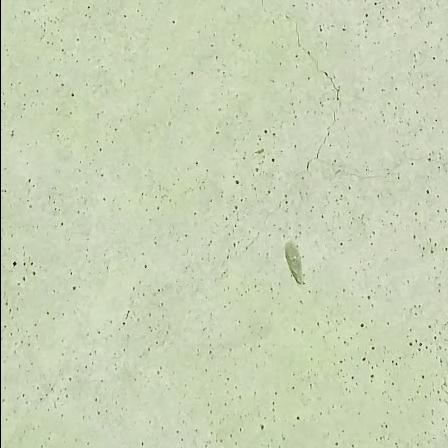crack: (159, 0, 448, 258)
